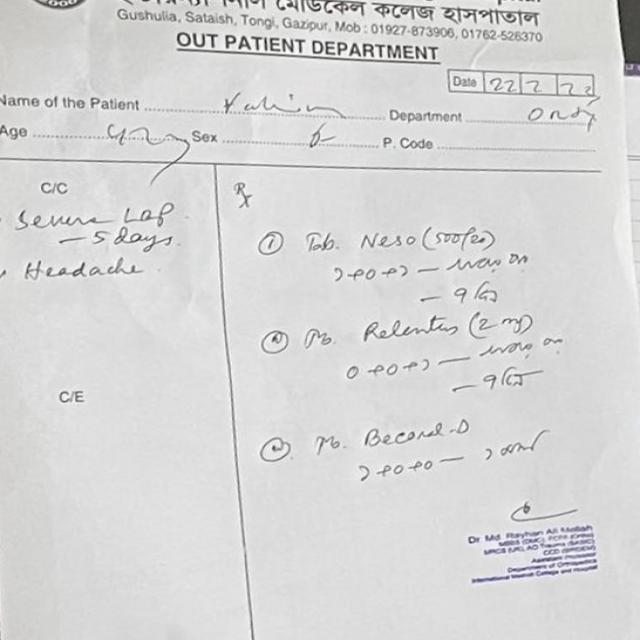Becoral D: (361, 420, 481, 450)
Neso: (353, 229, 421, 257)
Relentus: (357, 307, 466, 351)
